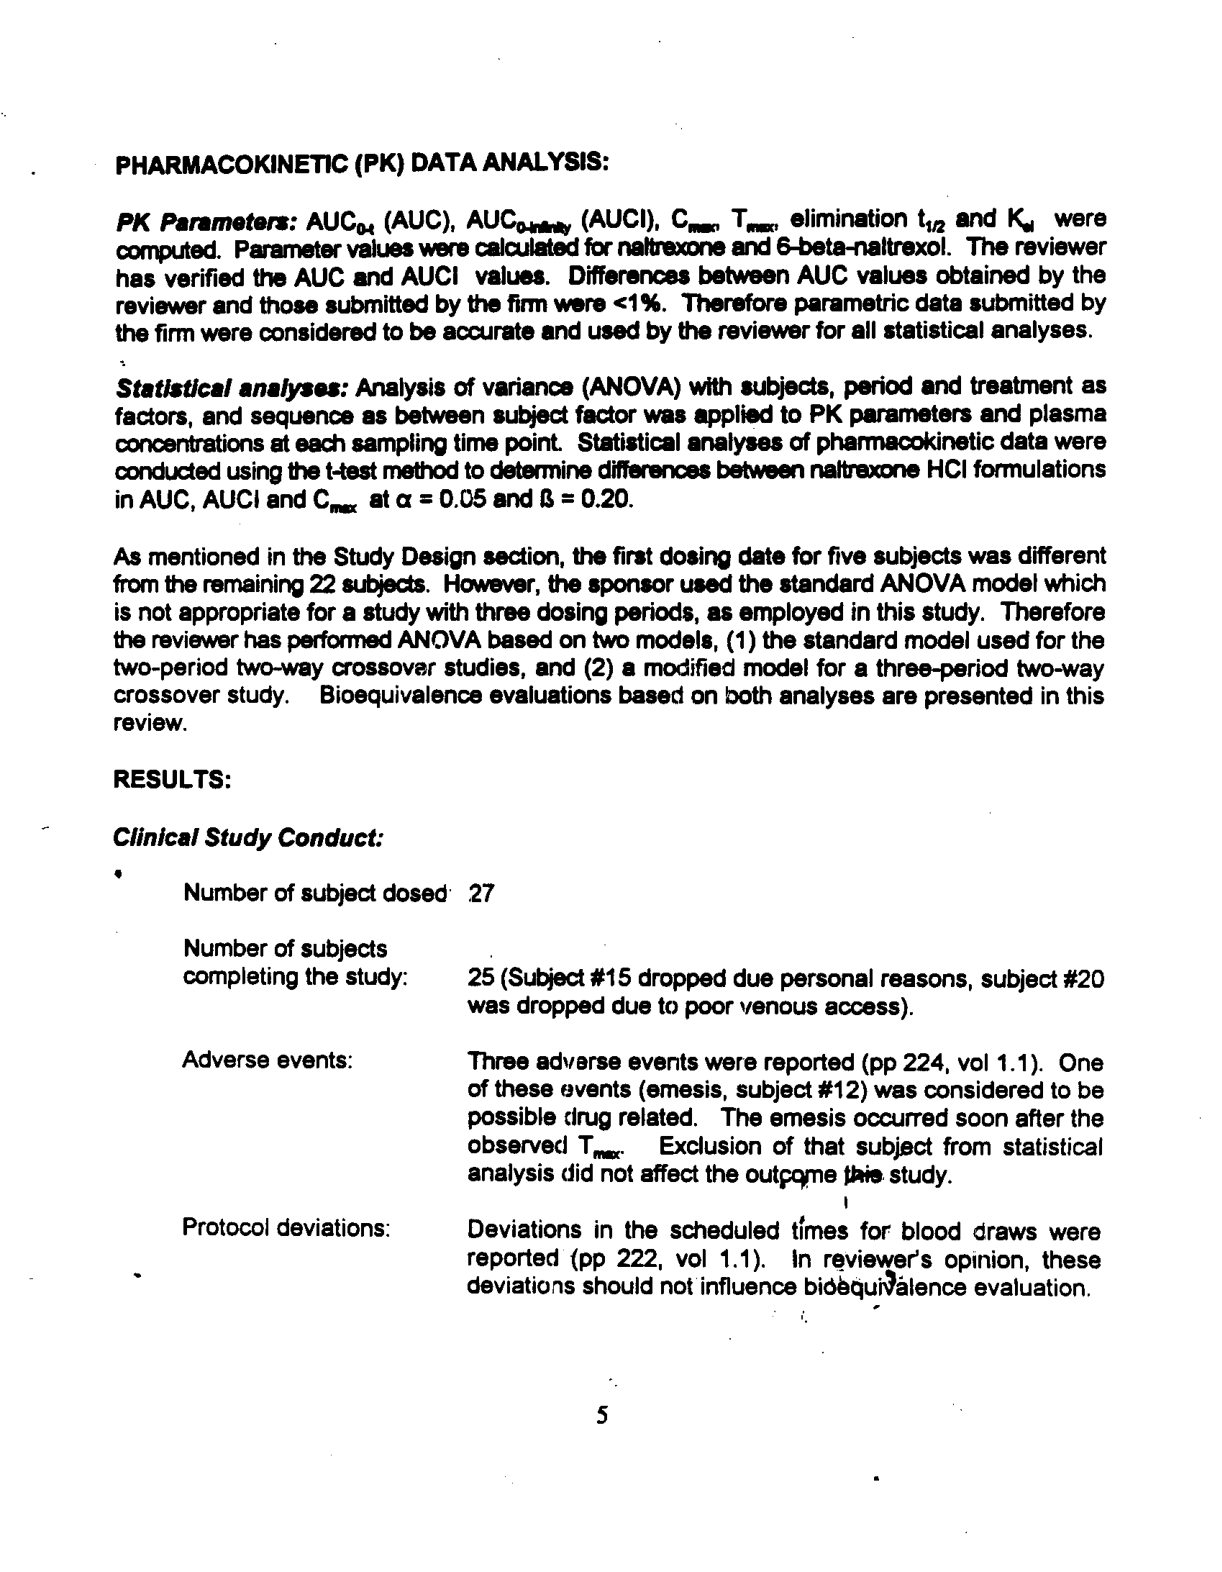nolines: (181, 879, 1108, 1300)
